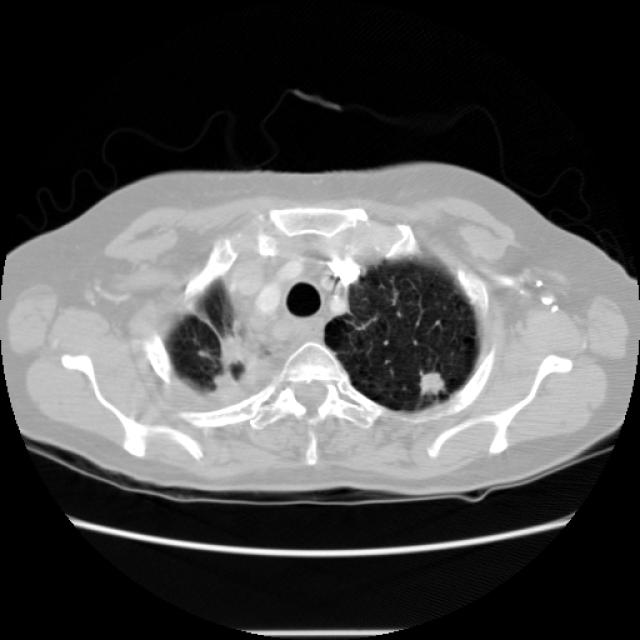nodule: (402, 355, 460, 413)
